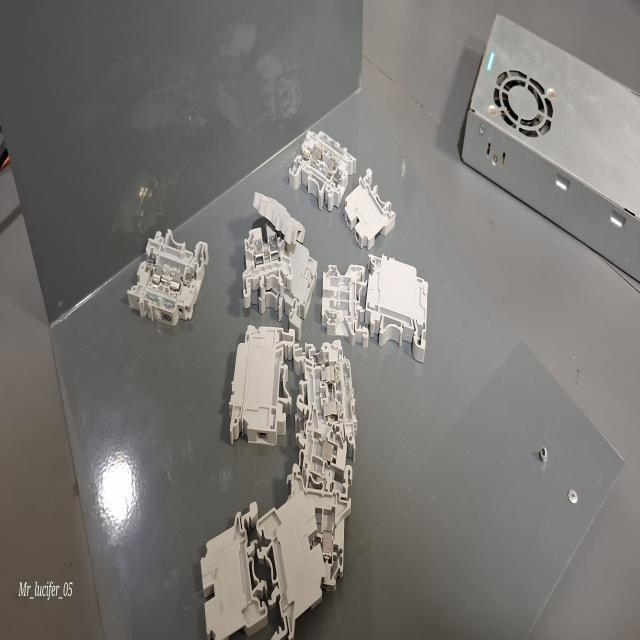Inverted: (253, 477, 330, 640), (194, 489, 272, 640), (338, 158, 407, 258)
Pass: (241, 210, 295, 309)
Reject: (316, 252, 374, 346)
